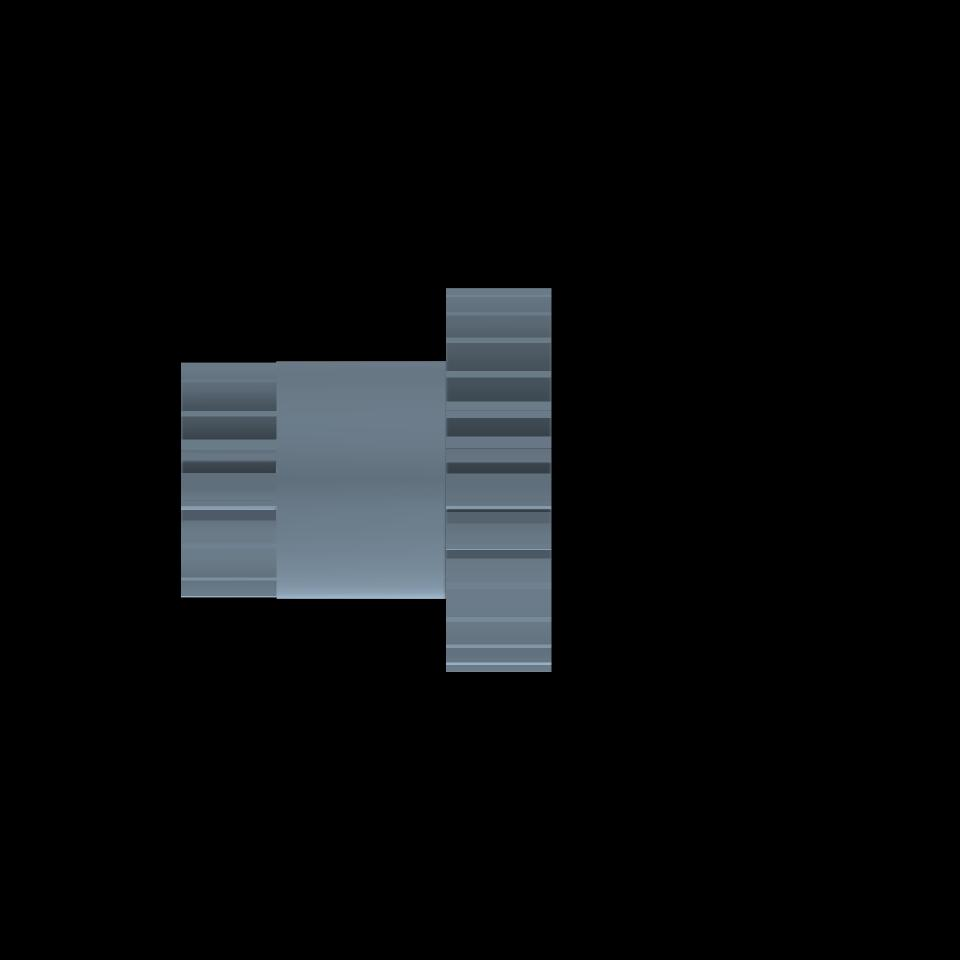Straight: (446, 287, 550, 672), (181, 363, 278, 597)
